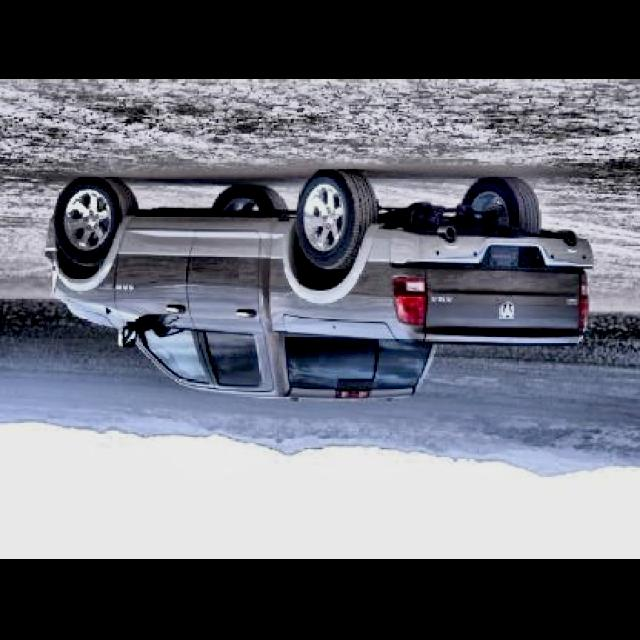black: (0, 196, 600, 416)
